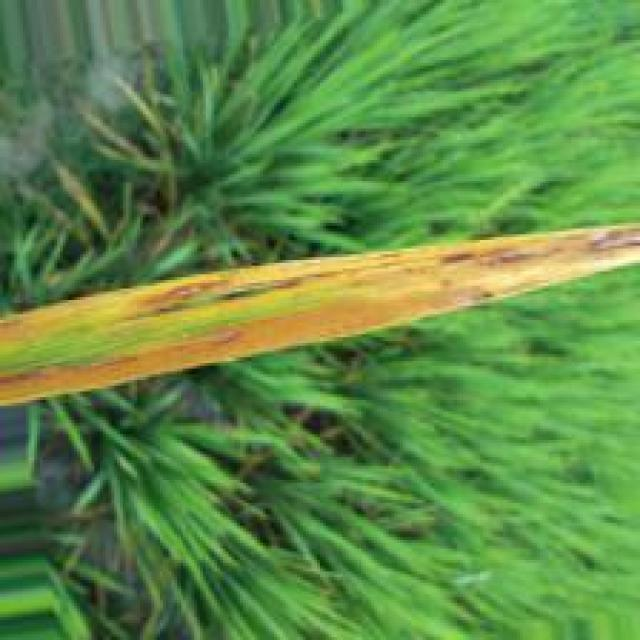Bacterial_Leaf_Blight: (0, 219, 640, 405)
